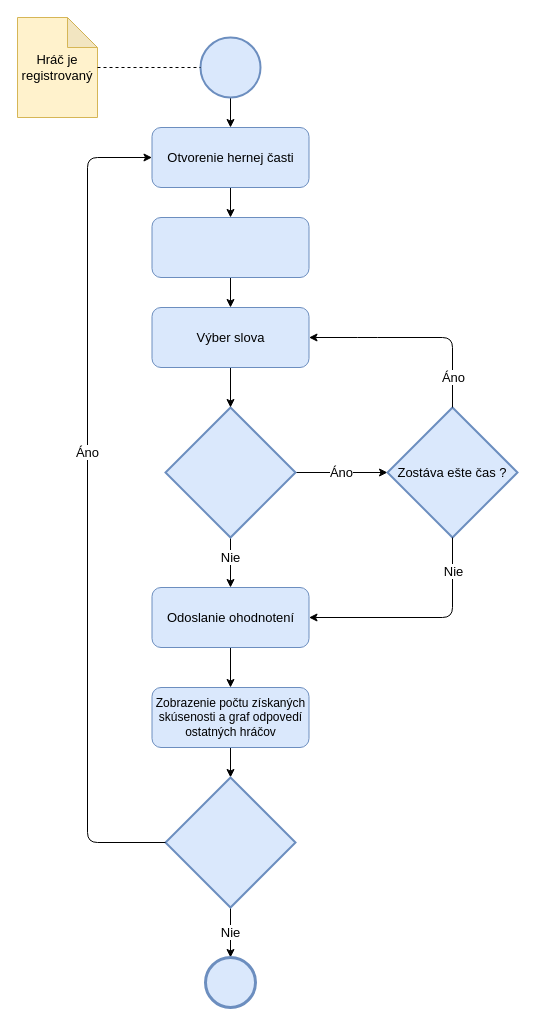
Image size: 536x1025. Some labels were removed from this diagram. The centre of each missing label's shape, as x and y in pixels:
"Hrať ďalšie kolo?" goes at pixel 230 842.
"Je možné vybrať ďalšie slovo" goes at pixel 230 472.
"Potvrdenie inštrukcií" goes at pixel 230 247.
